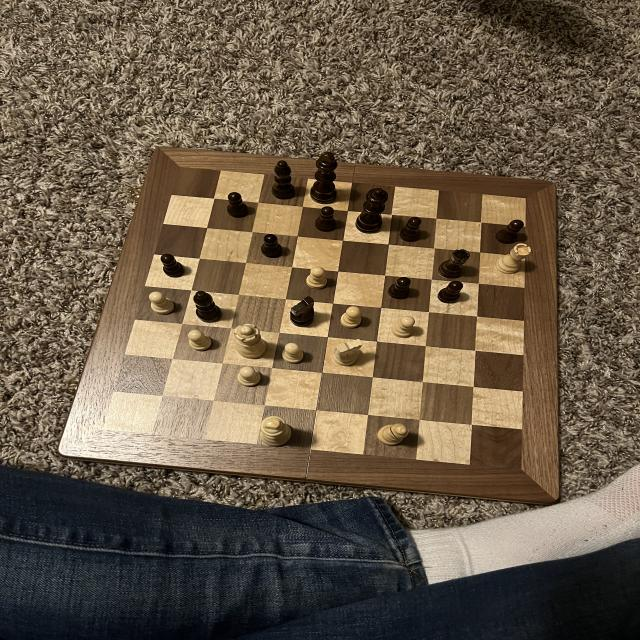bishop: (268, 159, 300, 201), (191, 288, 223, 324)
black-bishop: (306, 151, 342, 206)
black-king: (289, 294, 318, 328)
black-knight: (492, 217, 525, 244), (225, 191, 253, 221), (157, 251, 185, 280), (398, 215, 428, 242), (259, 233, 285, 260), (386, 276, 413, 302), (313, 205, 337, 234), (437, 280, 464, 304)
black-pawn: (351, 186, 387, 236)
black-queen: (437, 248, 474, 280)
black-rook: (375, 422, 412, 446)
white-bishop: (255, 412, 296, 450)
white-king: (330, 338, 365, 369)
white-knight: (147, 290, 178, 316), (186, 329, 215, 352), (235, 366, 265, 388), (391, 316, 417, 340), (305, 265, 329, 290), (340, 305, 364, 329), (281, 342, 306, 364)
white-pawn: (230, 322, 267, 361)
white-queen: (493, 242, 532, 276)
